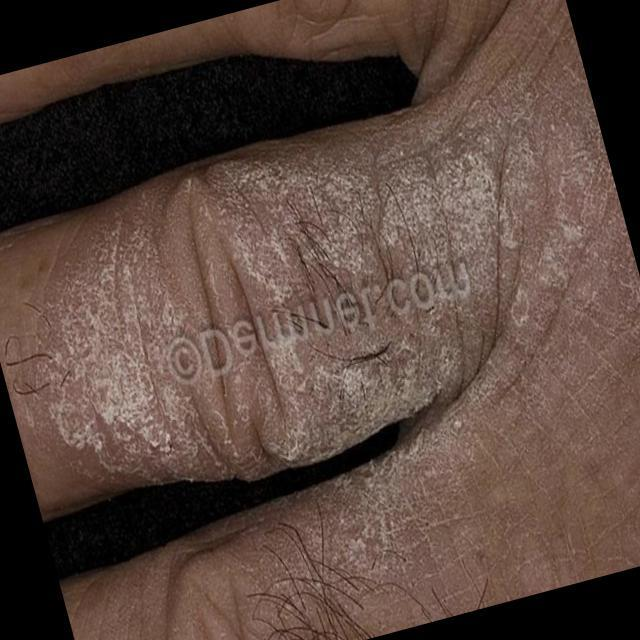Eczema: (10, 109, 575, 561)
